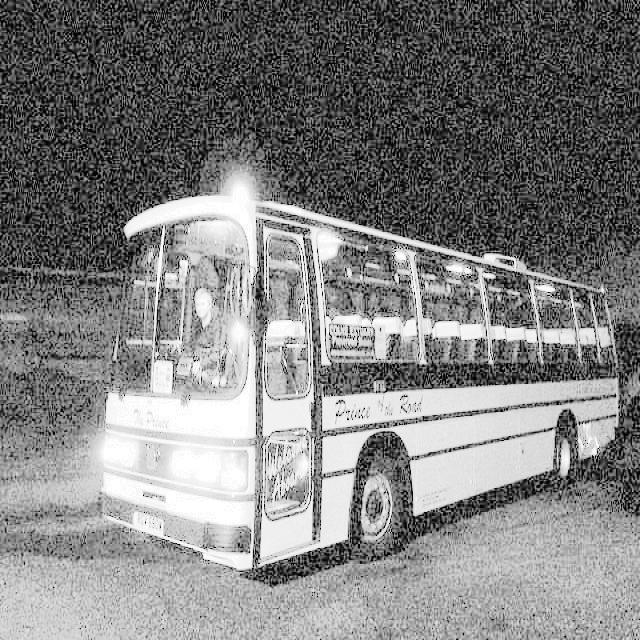Bus: (87, 181, 632, 571)
